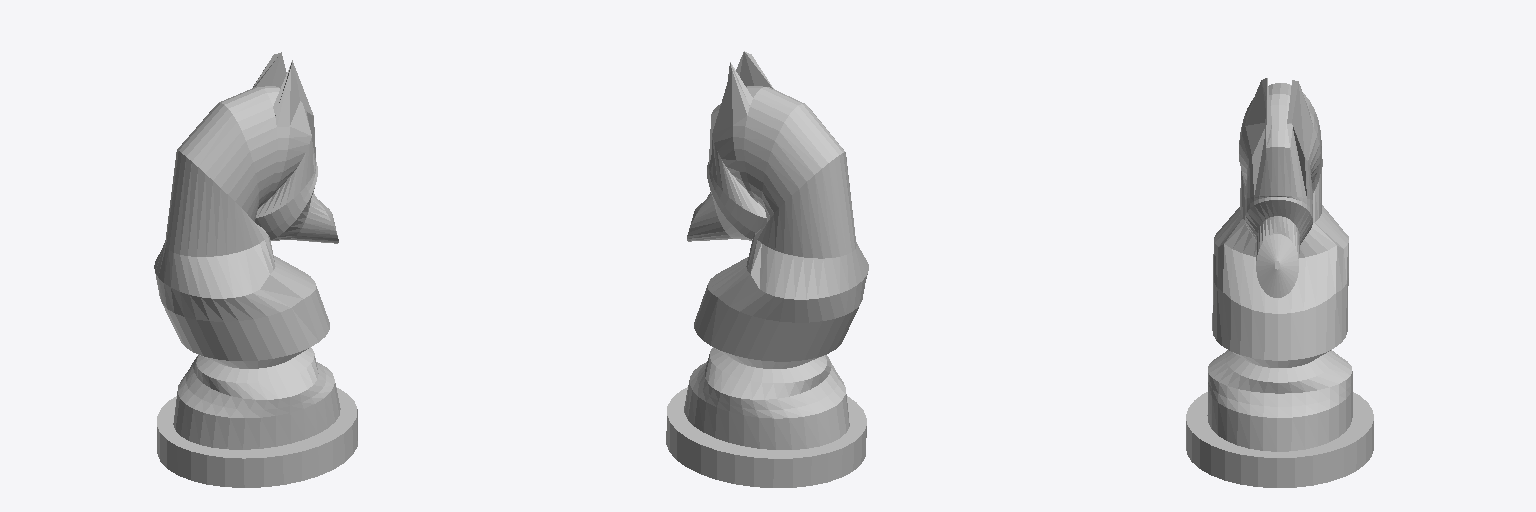
File: knight_horse2.obj
3 renders of one model, left to right at view 1: azimuth 30°, elevation 25°; view 2: azimuth 150°, elevation 25°; view 3: azimuth 270°, elevation 25°, orthographic.
Parts seen in each view (by area): view 1: Cylinder; view 2: Cylinder; view 3: Cylinder.
Part boxes in pixels (x1,y1,x2,y2): Cylinder: (154, 52, 357, 487); Cylinder: (666, 51, 868, 487); Cylinder: (1186, 78, 1373, 487).
Bounding box in the file's own units: 2.43 × 4.96 × 2.19.